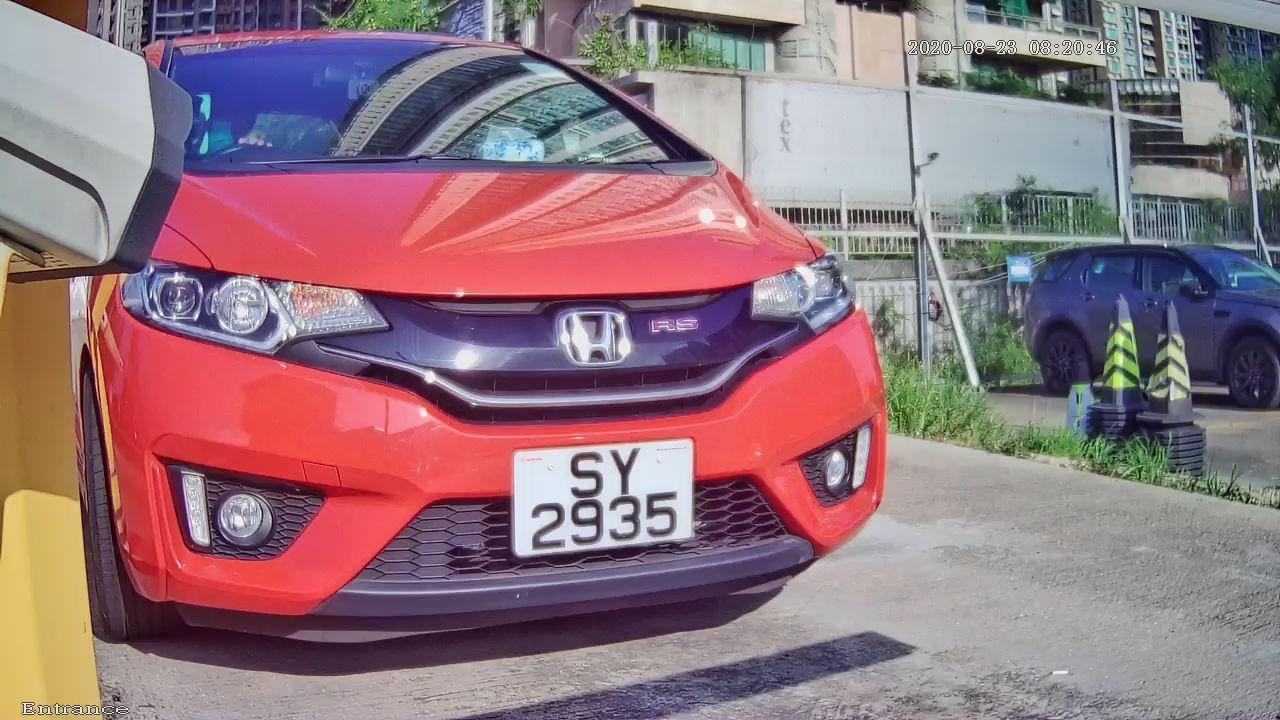License Plate: (492, 431, 715, 569)
